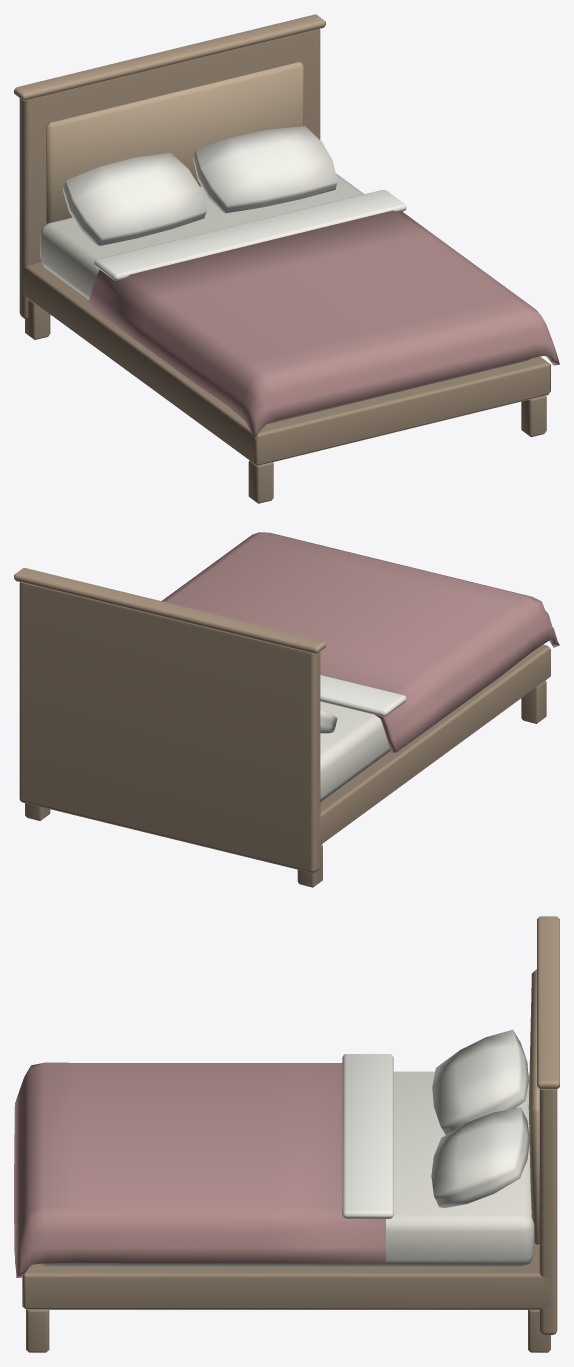
Rendered from bed.glb.
The picture shows the model from 3 angles, top to bottom: view 1: azimuth 30°, elevation 25°; view 2: azimuth 150°, elevation 25°; view 3: azimuth 270°, elevation 25°; orthographic projection. The views are drawn at different scales.
Parts seen in each view (by area): view 1: furn_bed; view 2: furn_bed; view 3: furn_bed.
Boxes of the visible parts, <box> form: furn_bed: <box>14,14,559,503</box>; furn_bed: <box>14,532,559,887</box>; furn_bed: <box>14,916,559,1352</box>.
Bounding box in the file's own units: 1.57 × 1.19 × 2.13.
